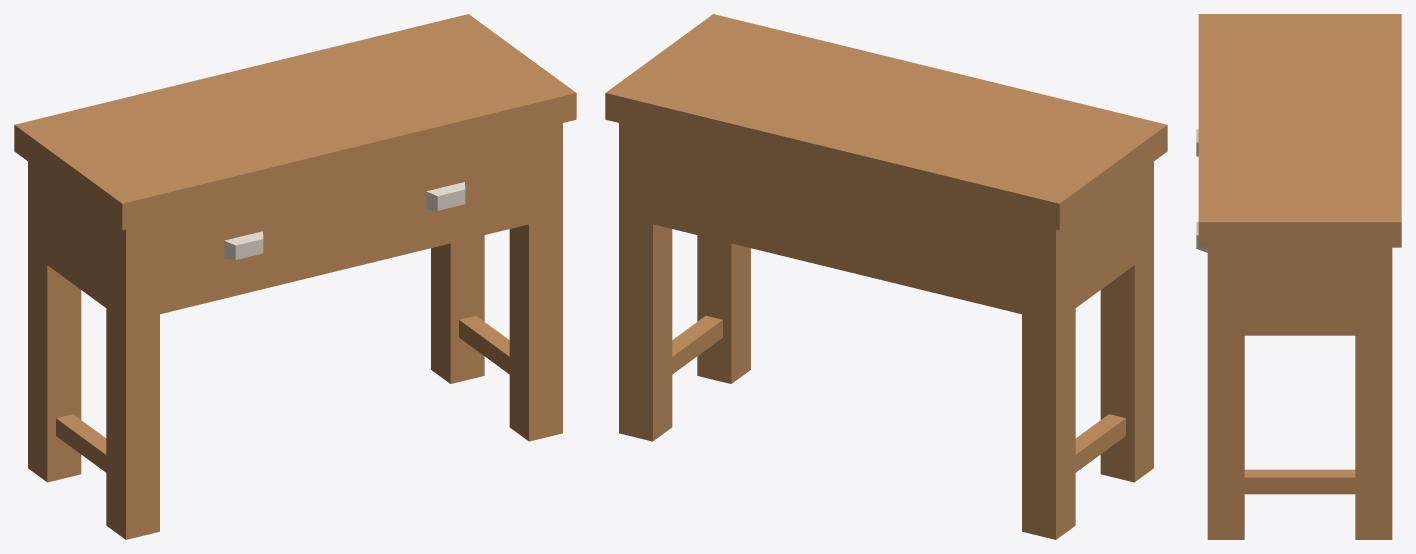
The model's file is kitSideTableDrawers.glb.
The picture shows the model from 3 angles, left to right: view 1: azimuth 30°, elevation 25°; view 2: azimuth 150°, elevation 25°; view 3: azimuth 270°, elevation 25°; orthographic projection. The views are drawn at different scales.
Parts seen in each view (by area): view 1: kitSideTableDrawers_wood, kitSideTableDrawers_metal; view 2: kitSideTableDrawers_wood; view 3: kitSideTableDrawers_wood.
Boxes of the visible parts, x1,y1,x2,y2 form: kitSideTableDrawers_wood: [14, 14, 576, 539]; kitSideTableDrawers_metal: [224, 182, 465, 259]; kitSideTableDrawers_wood: [605, 14, 1167, 539]; kitSideTableDrawers_wood: [1198, 14, 1401, 539].
Bounding box in the file's own units: 0.96 × 0.6905 × 0.3993.
